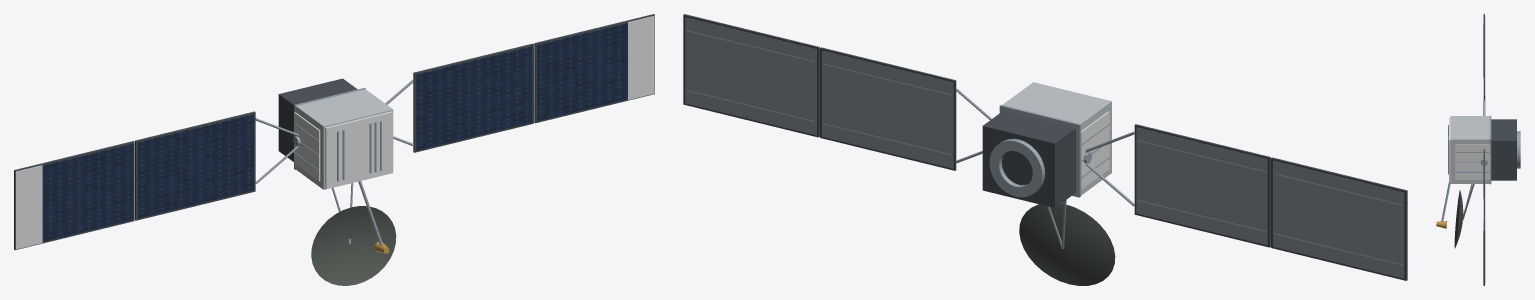
The model's file is geostar-3-galaxy-cband.glb.
3 renders of one model, left to right at view 1: azimuth 30°, elevation 25°; view 2: azimuth 150°, elevation 25°; view 3: azimuth 270°, elevation 25°, orthographic. The views are drawn at different scales.
Parts seen in each view (by area): view 1: Solar cell panel (×4), Communications reflector, White wing tip (×2), Earth-facing deck, Solar panel frame (×4), Payload module, Service module, Radiator face; view 2: Rear array substrate (×4), Service module, Communications reflector, Solar panel frame (×4), Payload module, Launch adapter ring, Radiator face, Module interface; view 3: Service module, Payload module, Radiator face, Solar panel frame (×4), Communications reflector, Module interface, Launch adapter ring, Earth-facing deck, Offset feed boom, Rear array substrate, Shell hinge strut, Feed horn.
Part boxes in pixels (x1,y1,x2,y2): Solar cell panel (×4): [42, 23, 627, 241]; Communications reflector: [311, 206, 396, 285]; White wing tip (×2): [15, 16, 654, 249]; Earth-facing deck: [325, 111, 393, 189]; Solar panel frame (×4): [14, 14, 654, 250]; Payload module: [295, 89, 393, 189]; Service module: [278, 78, 357, 161]; Radiator face: [294, 112, 320, 181]; Rear array substrate (×4): [685, 17, 1404, 278]; Service module: [982, 110, 1075, 207]; Communications reflector: [1019, 203, 1115, 285]; Solar panel frame (×4): [683, 14, 1407, 280]; Payload module: [1002, 82, 1111, 195]; Launch adapter ring: [989, 138, 1044, 197]; Radiator face: [1080, 111, 1109, 189]; Module interface: [999, 104, 1080, 197]; Service module: [1491, 119, 1516, 180]; Payload module: [1450, 116, 1489, 183]; Radiator face: [1455, 144, 1490, 179]; Solar panel frame (×4): [1483, 14, 1484, 285]; Communications reflector: [1454, 190, 1463, 248]; Module interface: [1489, 115, 1491, 184]; Launch adapter ring: [1517, 131, 1520, 168]; Earth-facing deck: [1449, 117, 1450, 182]; Offset feed boom: [1441, 182, 1450, 221]; Rear array substrate: [1485, 192, 1485, 283]; Shell hinge strut: [1463, 184, 1474, 219]; Feed horn: [1436, 221, 1447, 228].
Size of the model in its own units: 22.96 by 6.05 by 3.77.
8 materials, 1 textured.
